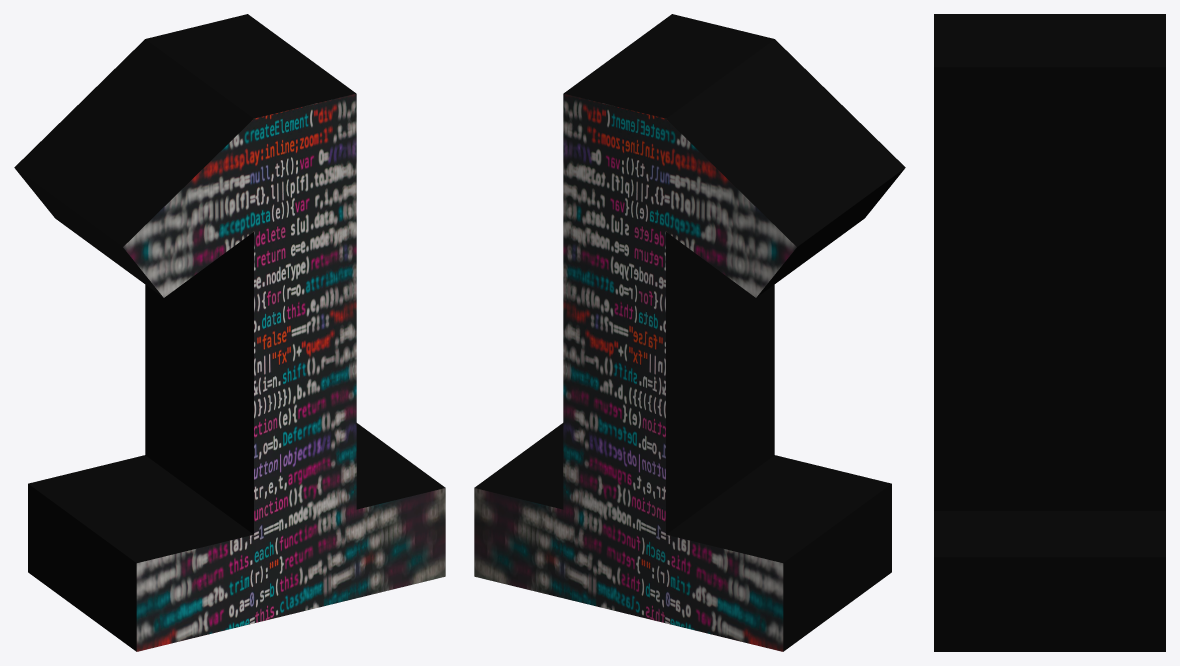
File: nro1.FBX
3 renders of one model, left to right at view 1: azimuth 30°, elevation 25°; view 2: azimuth 150°, elevation 25°; view 3: azimuth 270°, elevation 25°, orthographic. The views are drawn at different scales.
Parts seen in each view (by area): view 1: Text001; view 2: Text001; view 3: Text001.
Boxes of the visible parts, x1,y1,x2,y2 form: Text001: (14, 14, 445, 651); Text001: (474, 14, 905, 651); Text001: (934, 14, 1165, 651).
Size of the model in its own units: 20.24 by 30.24 by 11.81.
